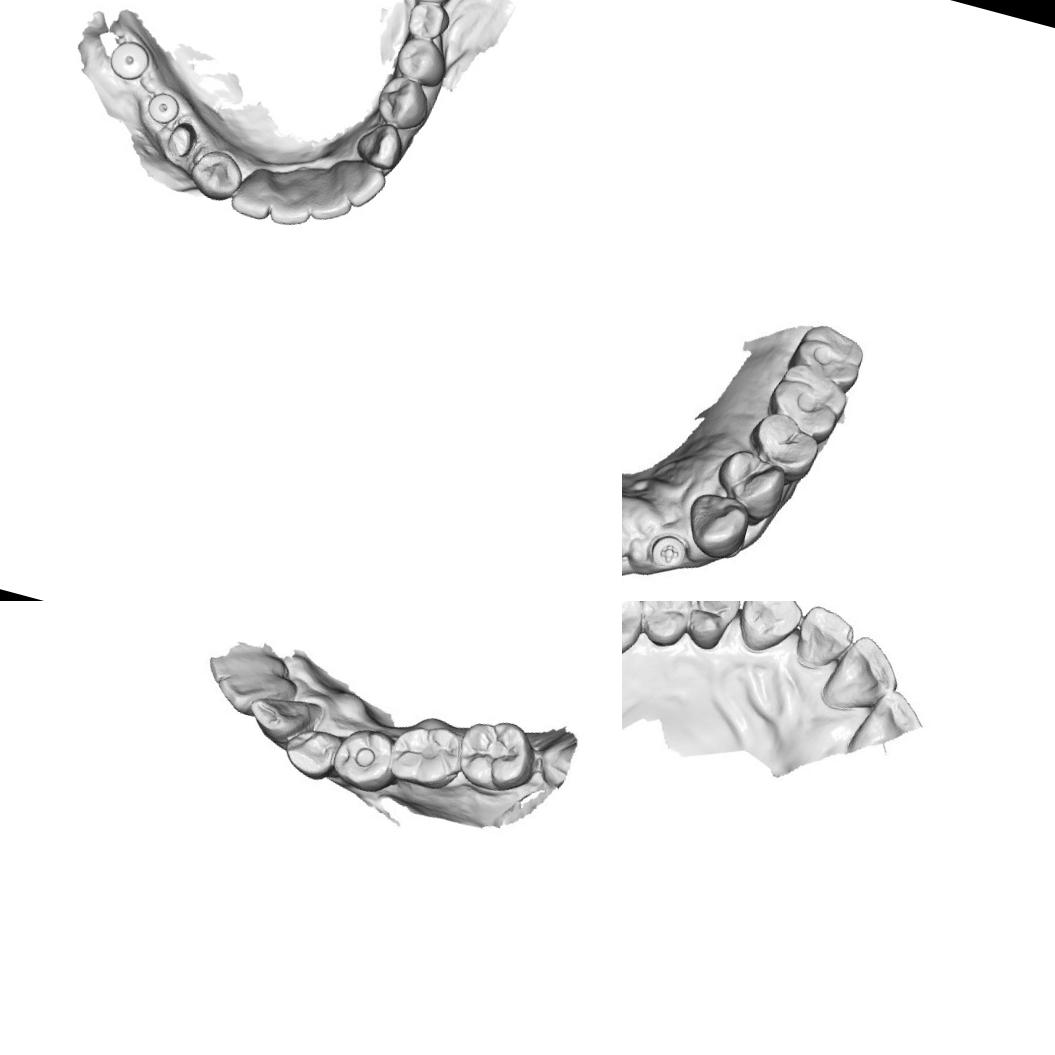canine: (238, 682, 328, 759), (678, 484, 755, 566), (730, 601, 806, 660), (183, 142, 249, 207), (350, 115, 410, 172)
crown: (160, 115, 201, 164)
implant: (104, 33, 154, 85), (142, 86, 184, 128)
implant_plus: (642, 526, 691, 577)
incisor: (814, 625, 910, 723), (785, 601, 857, 679), (217, 660, 297, 722), (327, 154, 390, 214), (304, 164, 360, 228), (263, 168, 319, 232), (226, 162, 280, 223)
molar: (764, 355, 854, 444), (456, 714, 542, 798), (386, 713, 469, 792), (788, 318, 868, 389), (402, 0, 454, 45), (622, 601, 653, 671)
premolar: (708, 443, 792, 527), (742, 408, 825, 482), (334, 724, 399, 793), (370, 68, 437, 134), (284, 720, 348, 780), (673, 601, 742, 654), (390, 32, 453, 90), (630, 601, 700, 653)
